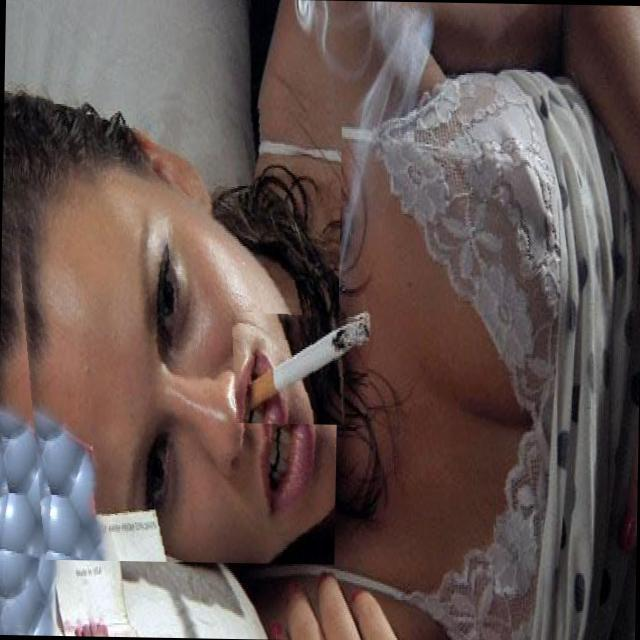cigarette: (229, 310, 369, 424)
